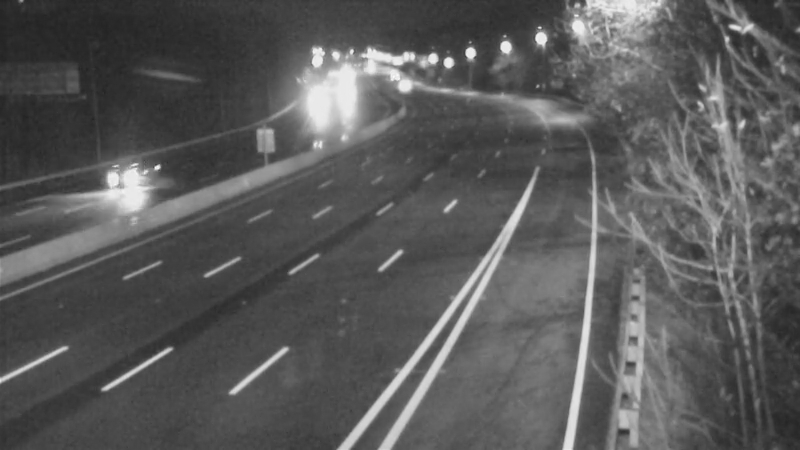vehicle: (95, 138, 175, 218), (377, 56, 427, 106), (293, 74, 343, 124), (318, 70, 368, 120)
